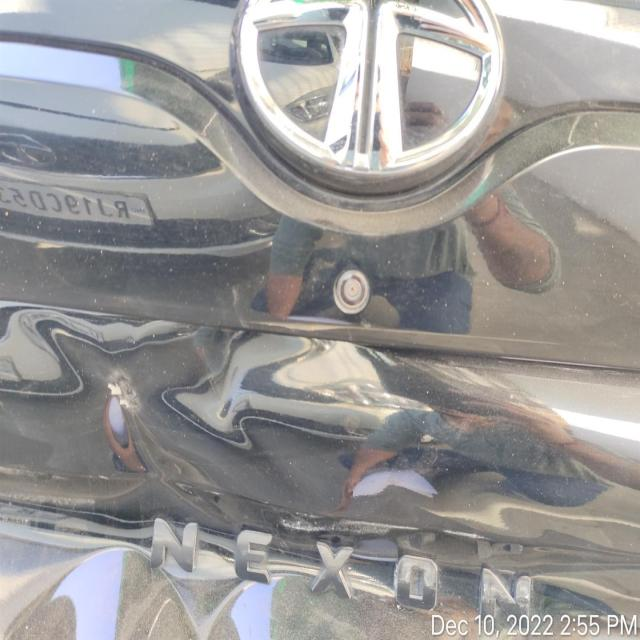damage: (47, 320, 603, 566)
